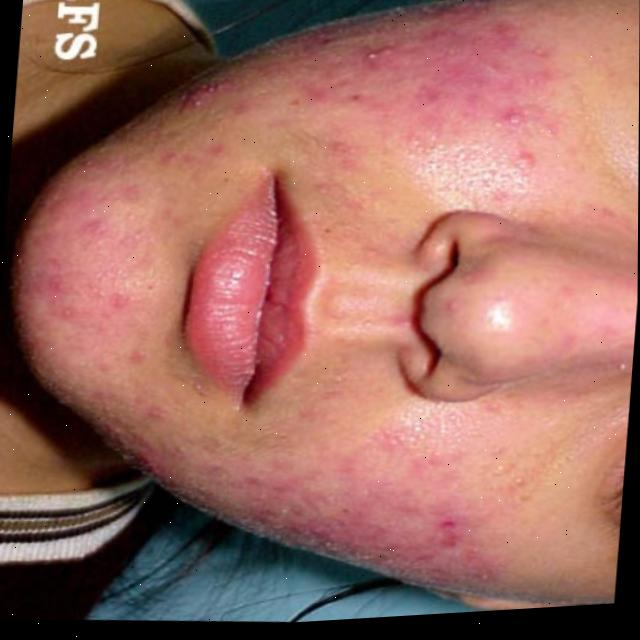Rosacea: (334, 5, 564, 174), (16, 157, 166, 408), (279, 440, 513, 584)
